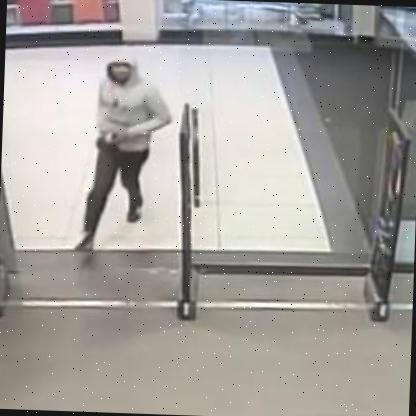person: (58, 50, 174, 260)
